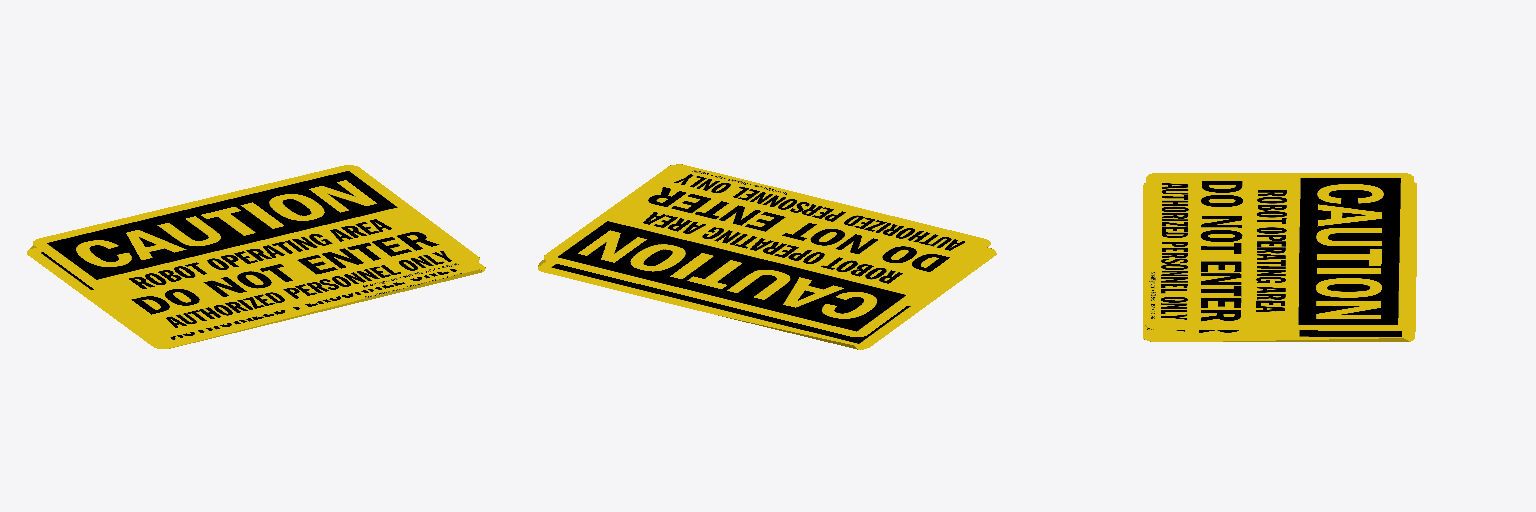
The picture shows the model from 3 angles: view 1: azimuth 30°, elevation 25°; view 2: azimuth 150°, elevation 25°; view 3: azimuth 270°, elevation 25°; orthographic projection.
Parts seen in each view (by area): view 1: Cube_Cube.001; view 2: Cube_Cube.001; view 3: Cube_Cube.001.
Boxes of the visible parts, <box> form: Cube_Cube.001: <box>27,165,485,348</box>; Cube_Cube.001: <box>538,164,996,349</box>; Cube_Cube.001: <box>1143,173,1416,341</box>.
Bounding box in the file's own units: 0.175 × 0.005 × 0.125.
1 materials, 1 textured.